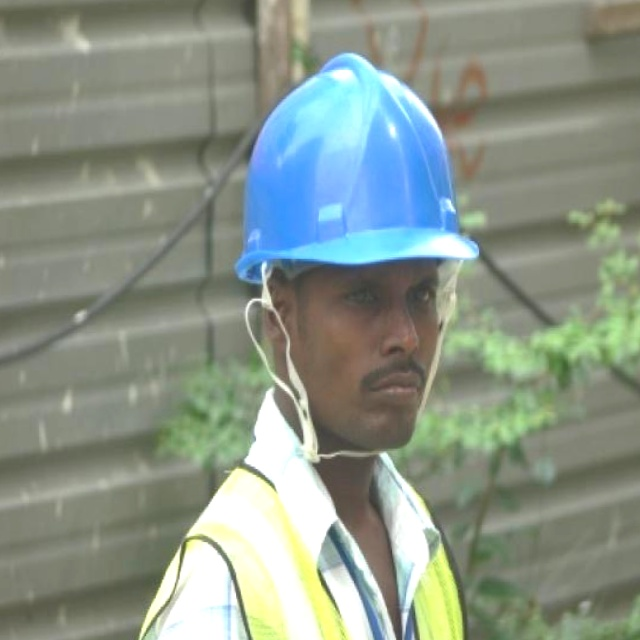Con_Casco: (228, 52, 469, 438)
Con_Chaleco: (135, 462, 478, 640)
